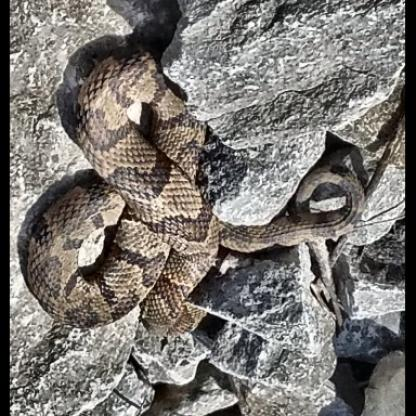Snake: (24, 14, 392, 412)
